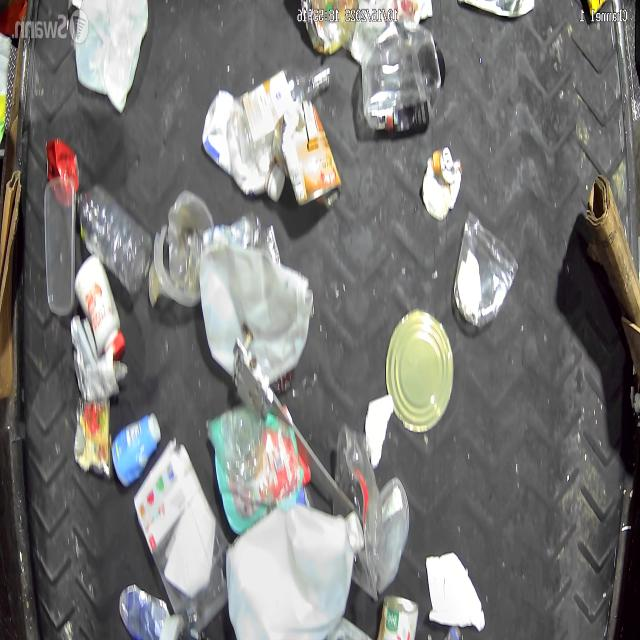can: (386, 310, 454, 433), (272, 114, 342, 210), (422, 147, 462, 219), (376, 595, 419, 640)
milk_jug: (225, 505, 364, 640), (198, 247, 313, 386), (75, 0, 148, 114)
plastic_bottle: (361, 20, 442, 135), (228, 63, 330, 149), (76, 186, 152, 296), (453, 212, 517, 326), (118, 584, 168, 640)
